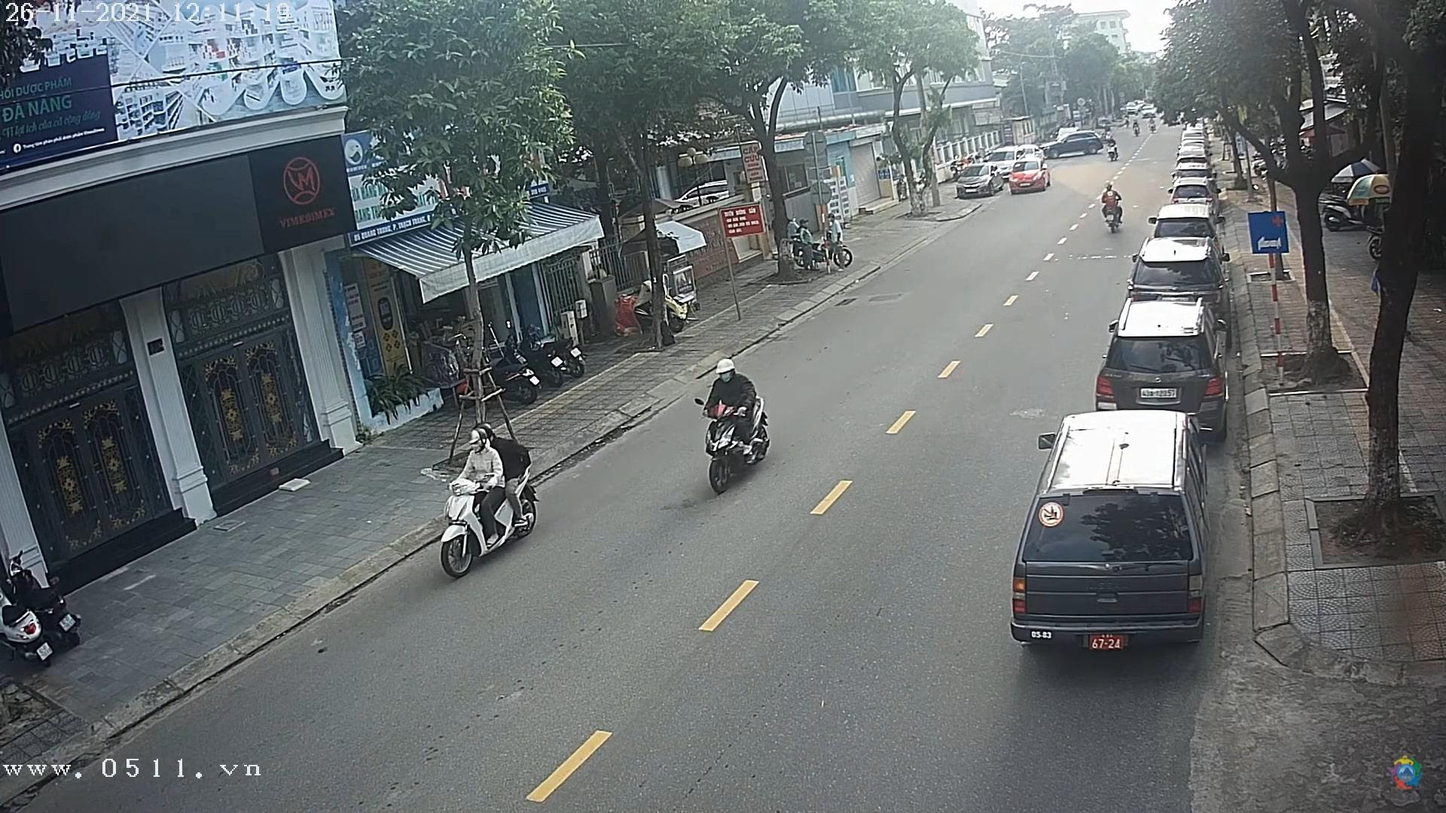car: (1048, 132, 1113, 162)
motorbike: (438, 471, 540, 576), (699, 400, 772, 496)
